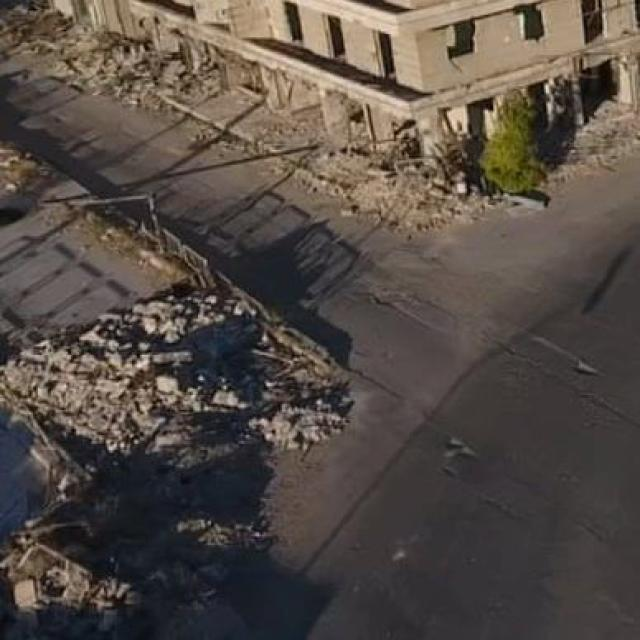collapsed_building: (2, 193, 308, 598)
